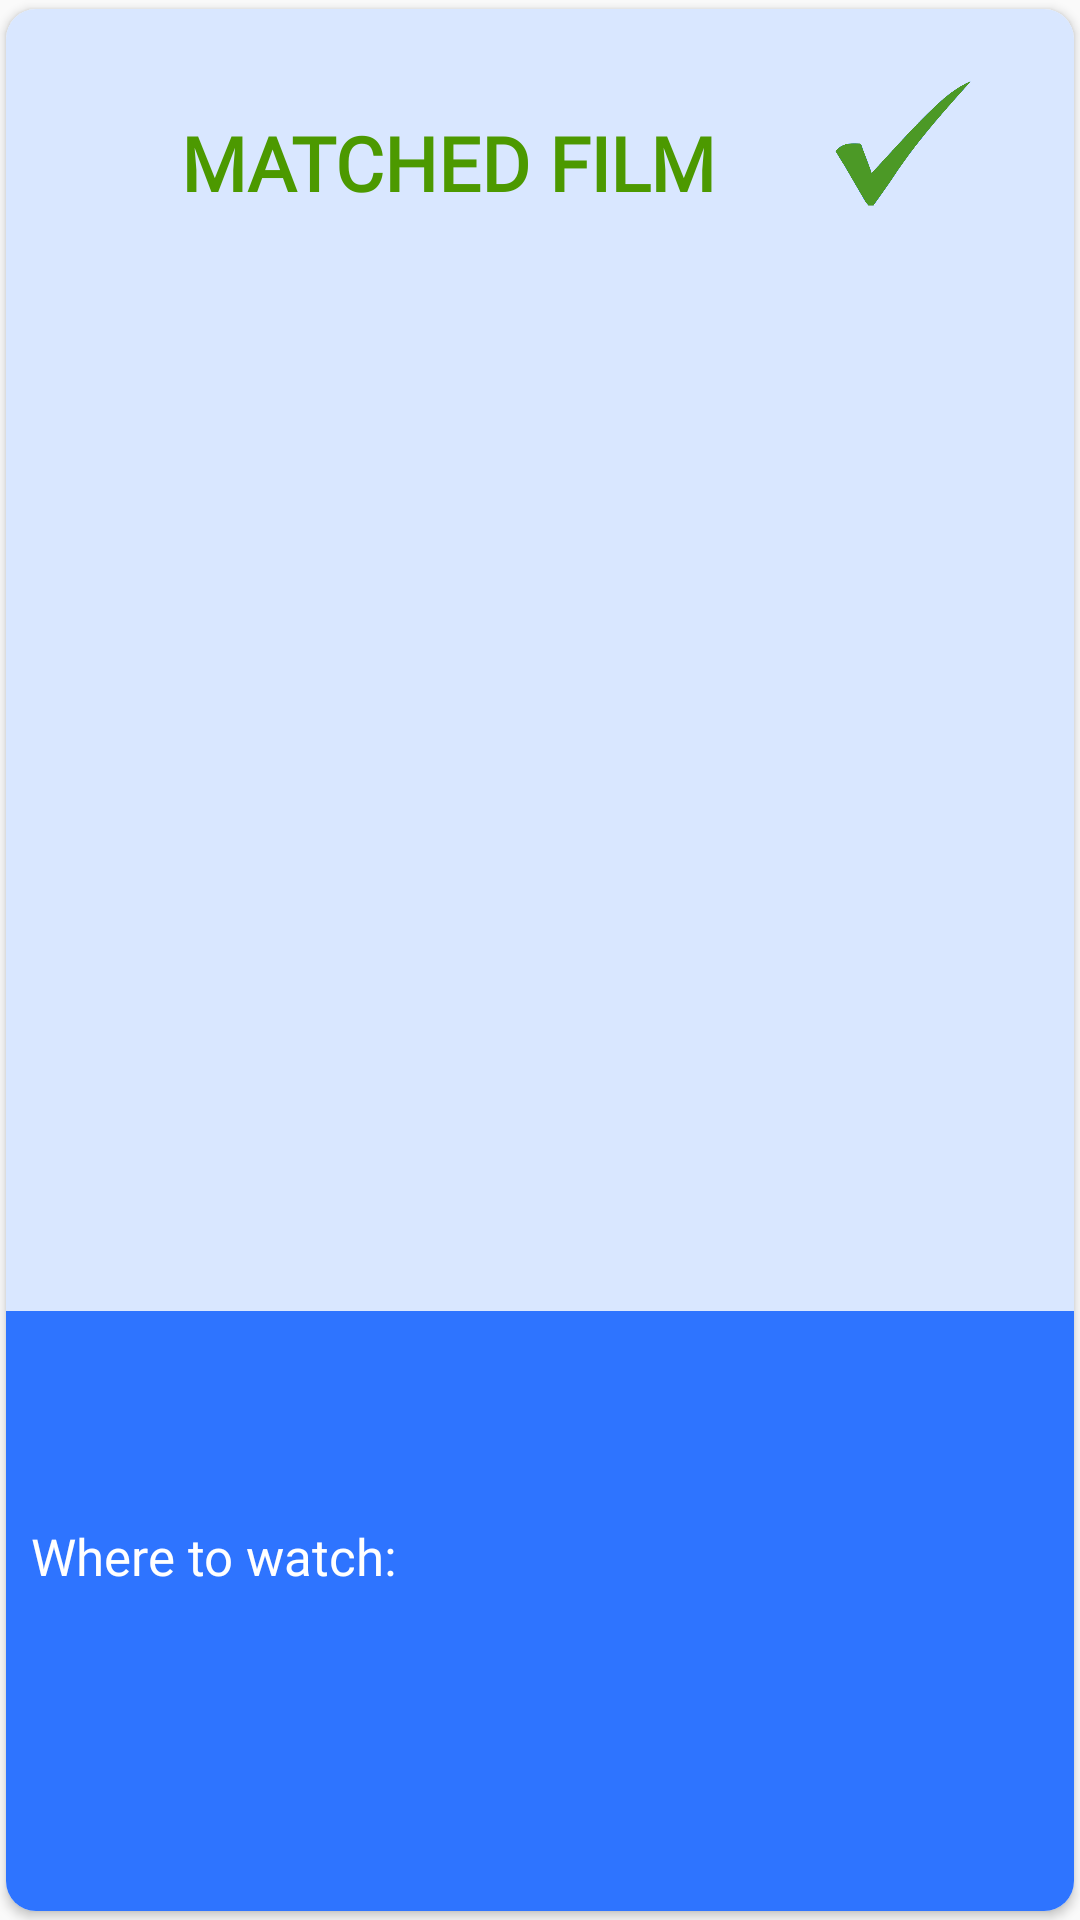

Icon bounding boxes for this 1080w x 1920h phone screenshot, format (x1, y1, x2, y2):
accepticon: (835, 81, 970, 206)
